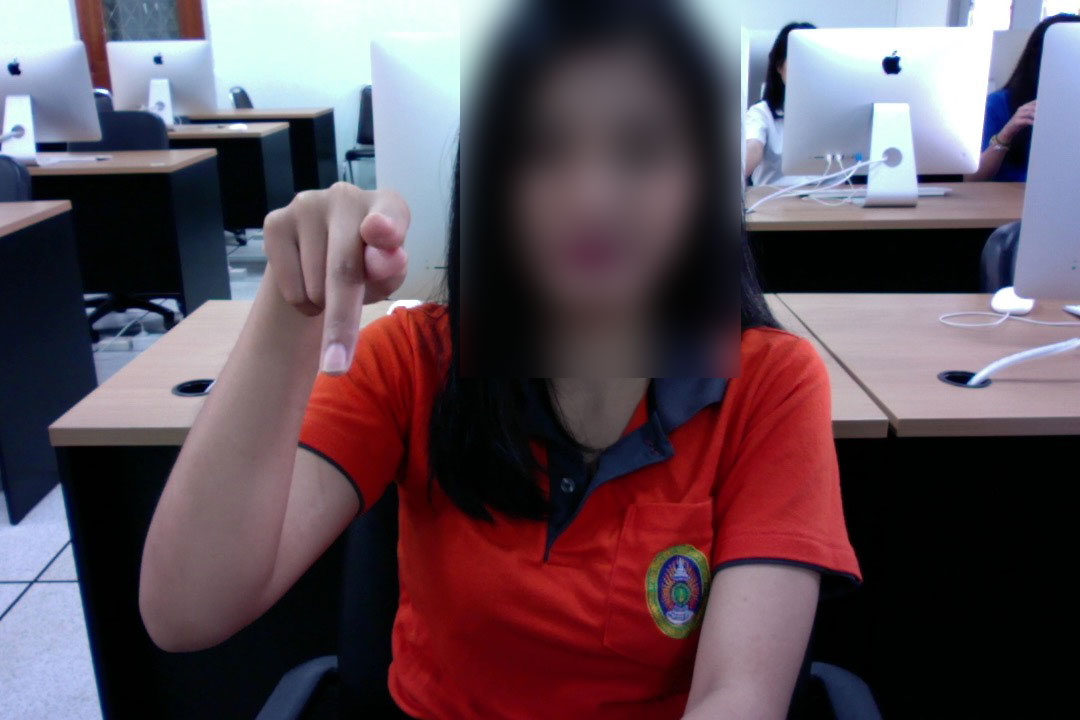por: (253, 177, 425, 382)
